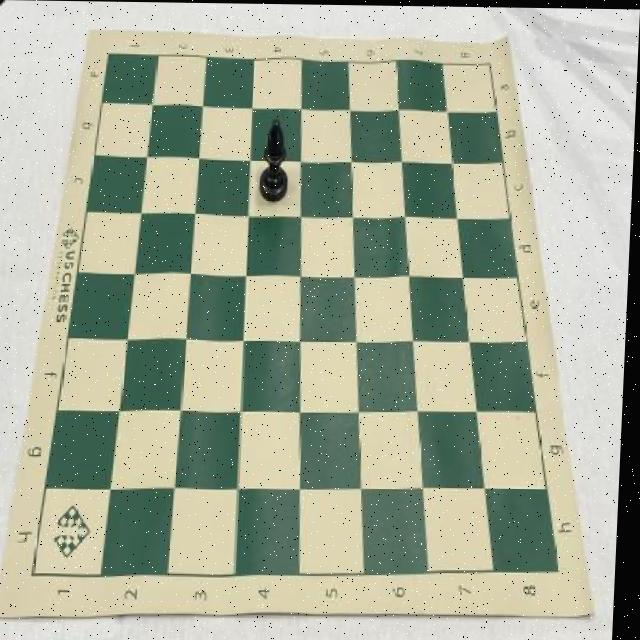bishop: (259, 117, 292, 203)
